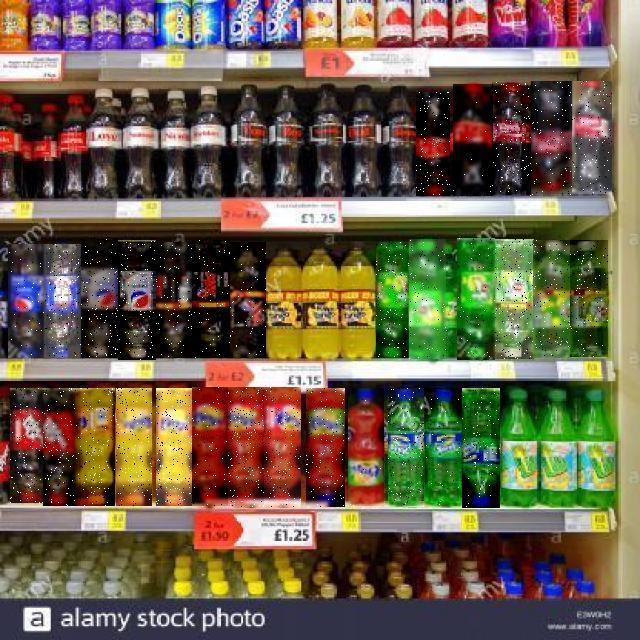Drinks: (494, 239, 534, 359), (571, 82, 613, 196), (530, 82, 572, 196), (306, 388, 345, 507), (457, 238, 495, 360), (118, 240, 156, 360), (463, 389, 501, 509), (410, 239, 448, 359), (80, 239, 118, 358), (425, 388, 463, 507), (192, 240, 230, 358), (453, 84, 493, 196), (570, 240, 608, 357), (492, 82, 531, 196), (264, 388, 301, 508), (533, 240, 570, 358), (8, 245, 46, 359), (192, 388, 228, 508), (228, 388, 264, 508), (229, 242, 266, 358), (388, 388, 424, 507), (44, 388, 80, 506), (79, 388, 115, 506), (116, 388, 152, 506), (156, 388, 192, 506), (348, 388, 384, 506), (44, 244, 81, 358), (156, 242, 192, 358), (376, 242, 410, 358), (11, 388, 45, 503), (416, 93, 450, 197)
